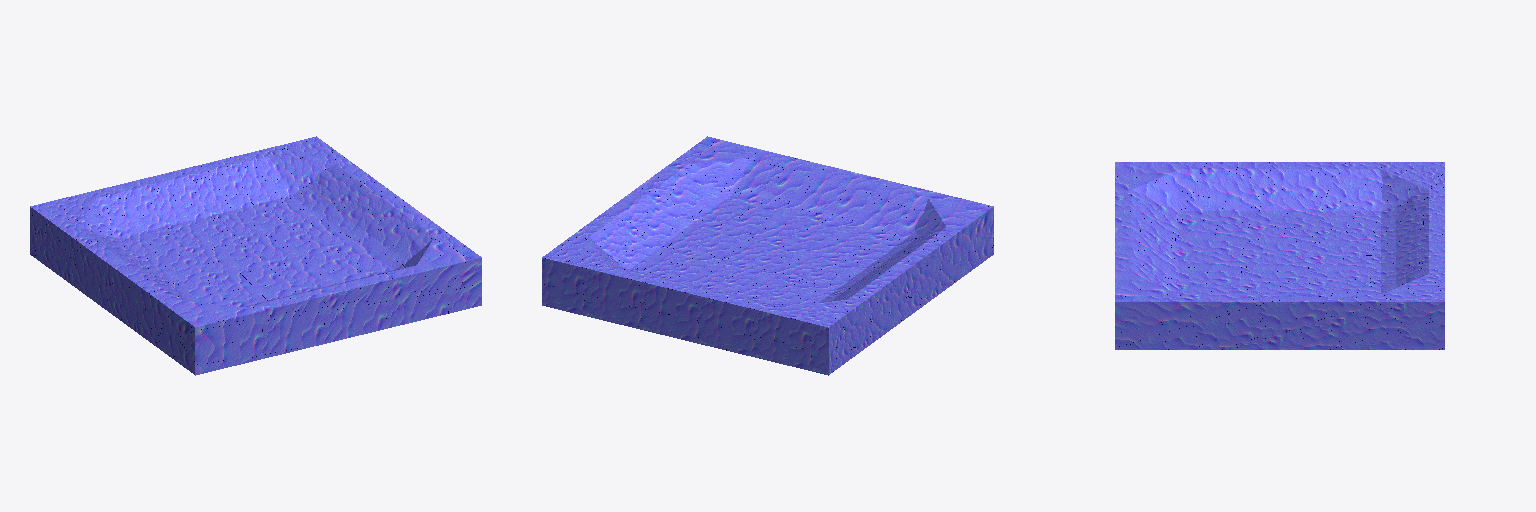
3 renders of one model, left to right at view 1: azimuth 30°, elevation 25°; view 2: azimuth 150°, elevation 25°; view 3: azimuth 270°, elevation 25°, orthographic.
Visible parts, largest first — view 1: grid1; view 2: grid1; view 3: grid1.
Boxes of the visible parts, x1=… form: grid1: x1=30, y1=136, x2=481, y2=375; grid1: x1=542, y1=136, x2=993, y2=375; grid1: x1=1115, y1=162, x2=1444, y2=349.
Size of the model in its own units: 5 by 0.8 by 5.
1 materials, 1 textured.